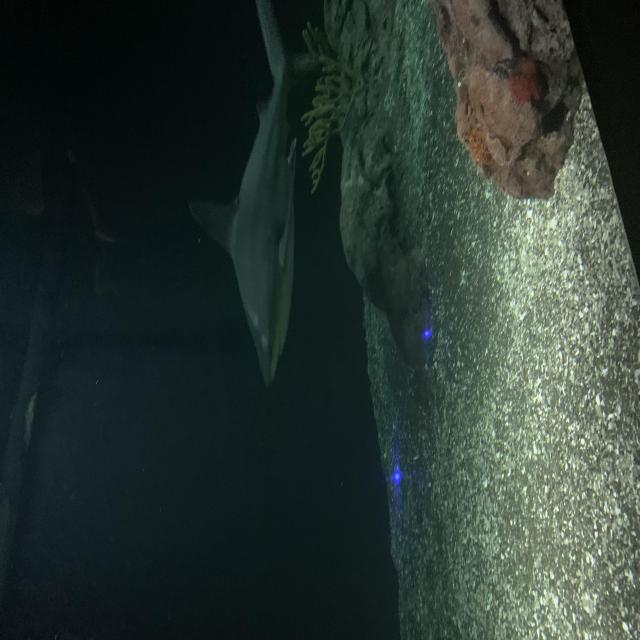shark: (186, 0, 320, 390)
